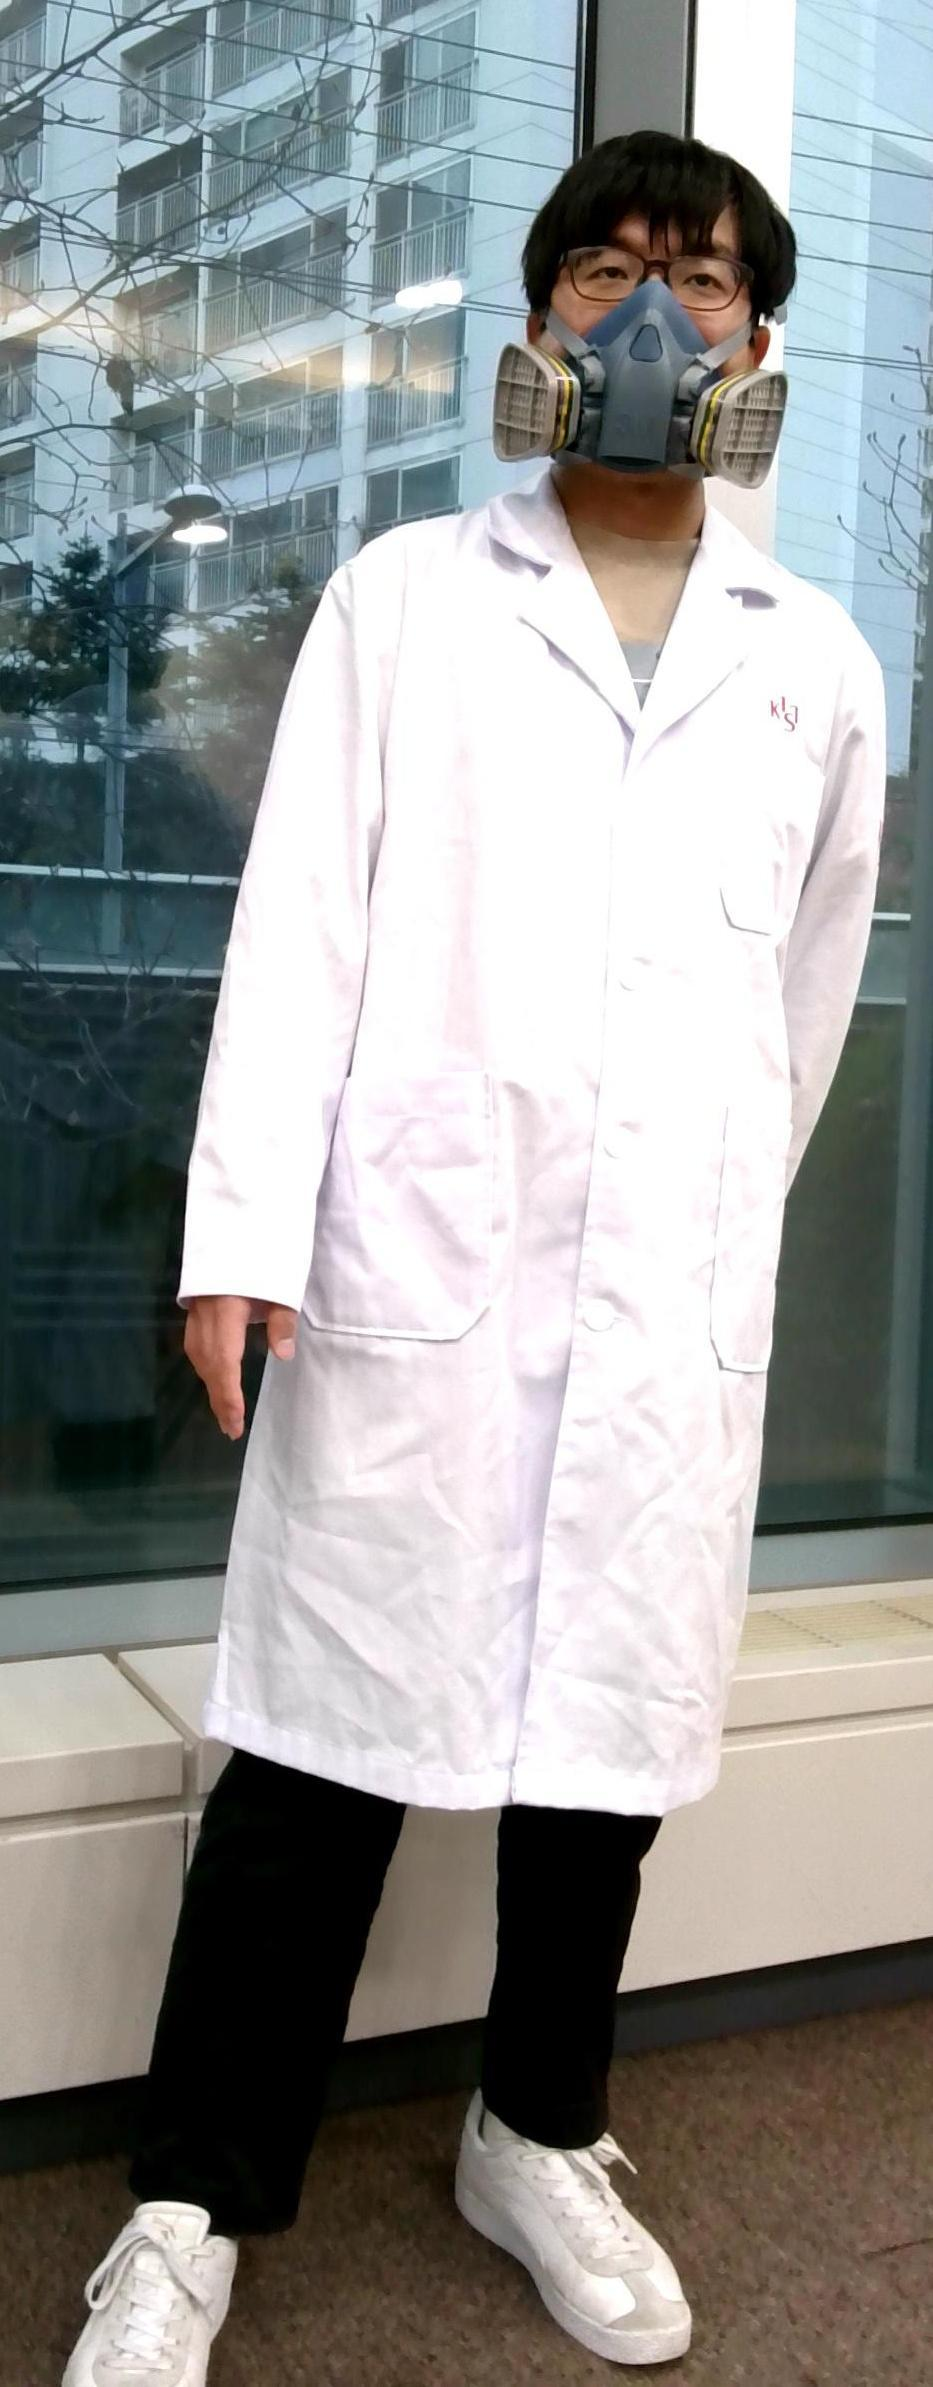lab_coat: (271, 511, 910, 1848)
